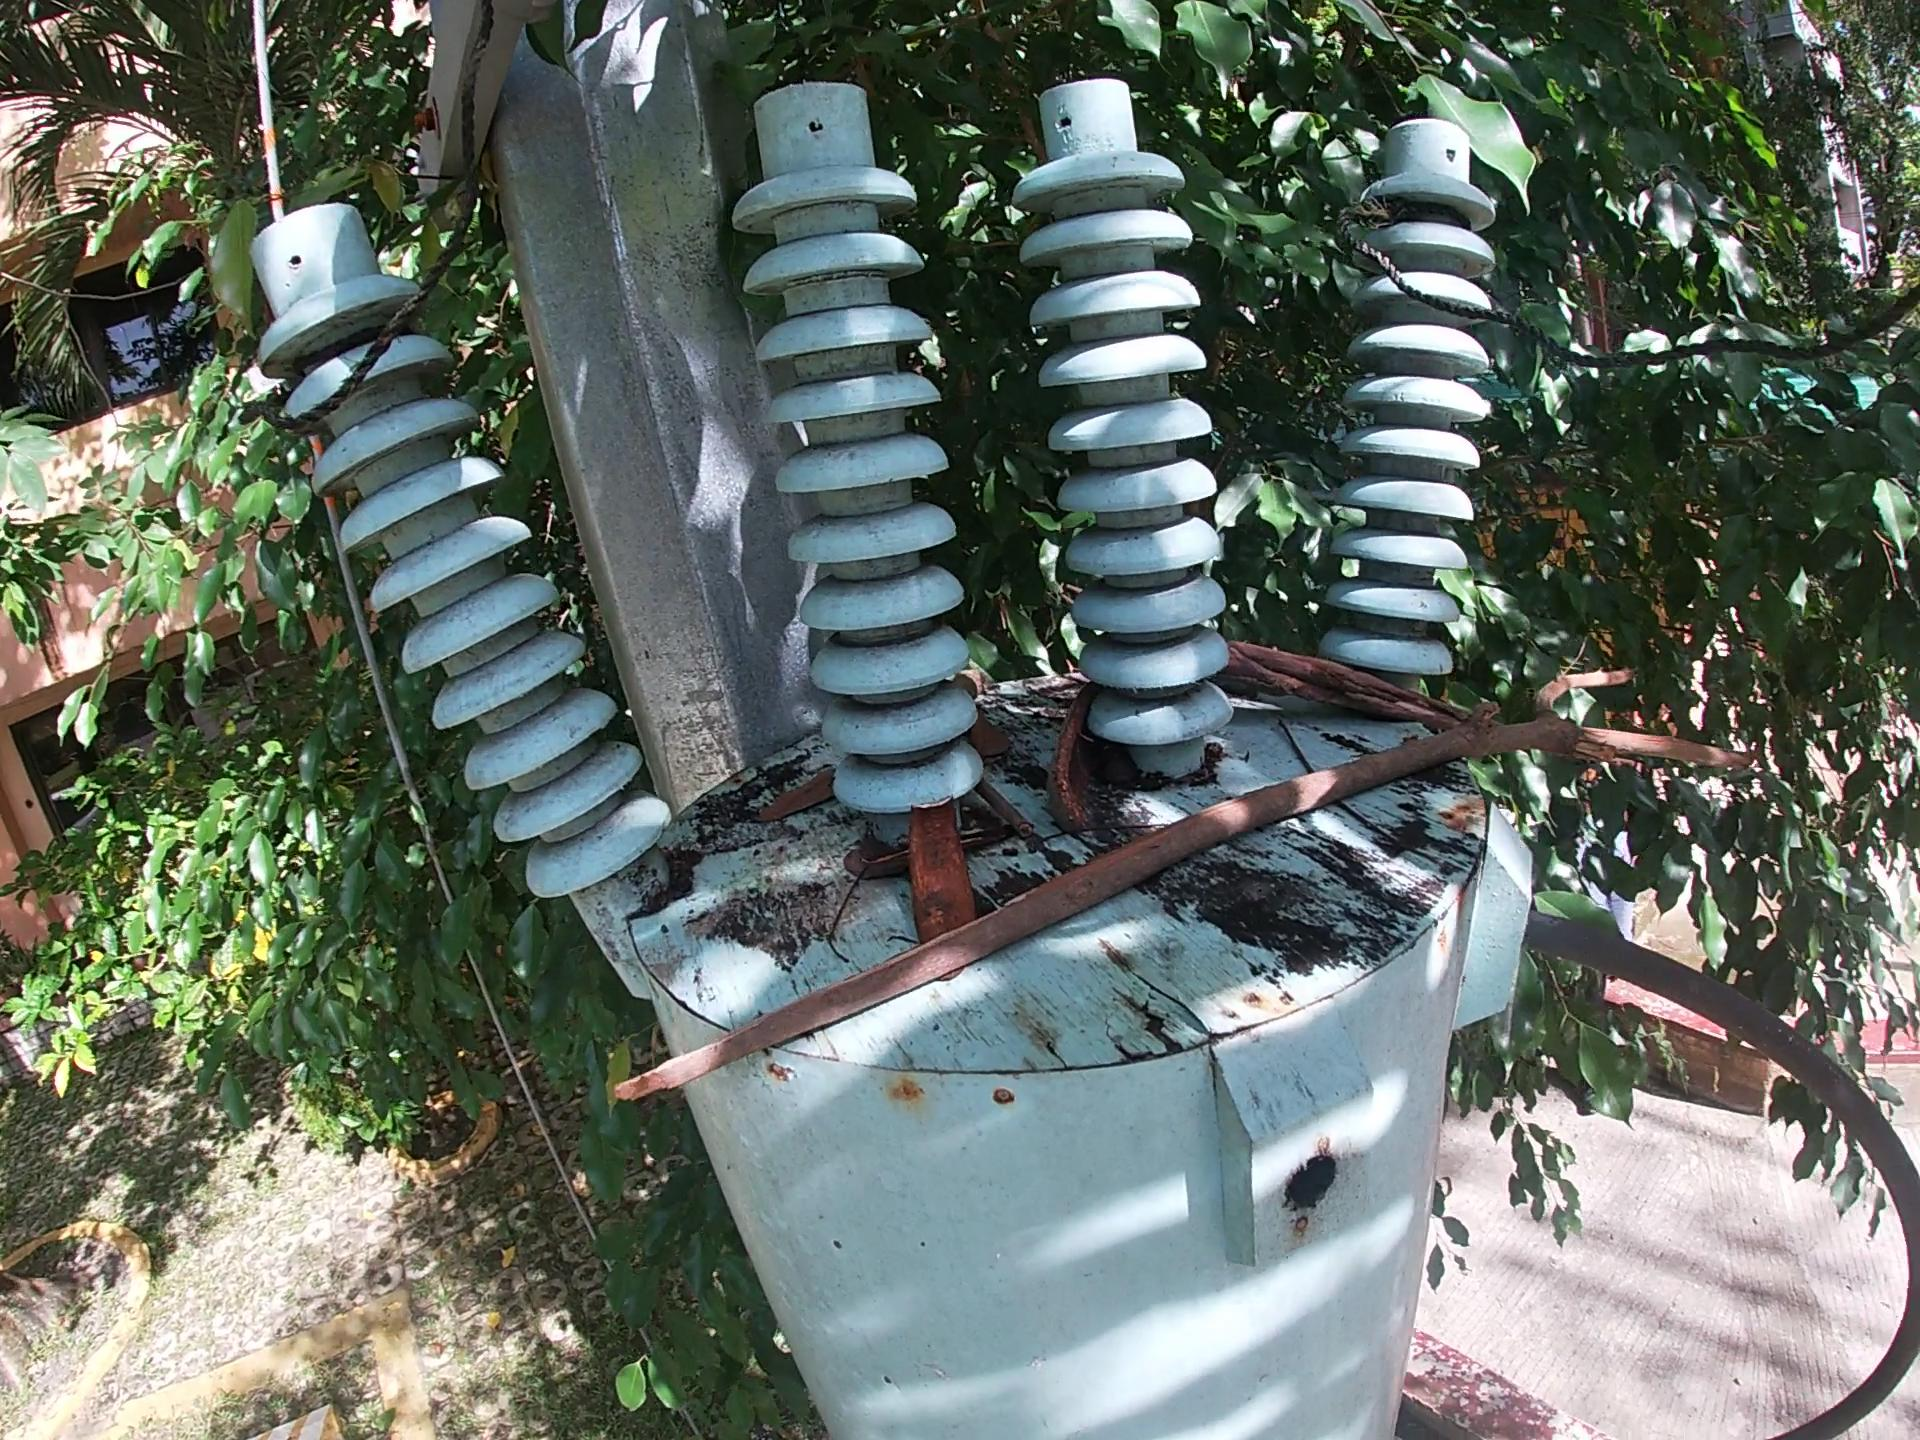leaf: (745, 761, 850, 836), (966, 700, 1019, 770)
mahogany fruit: (903, 793, 980, 951), (1039, 678, 1105, 846)
tree branch: (603, 661, 1761, 1112), (1212, 628, 1507, 740), (975, 777, 1040, 844)
